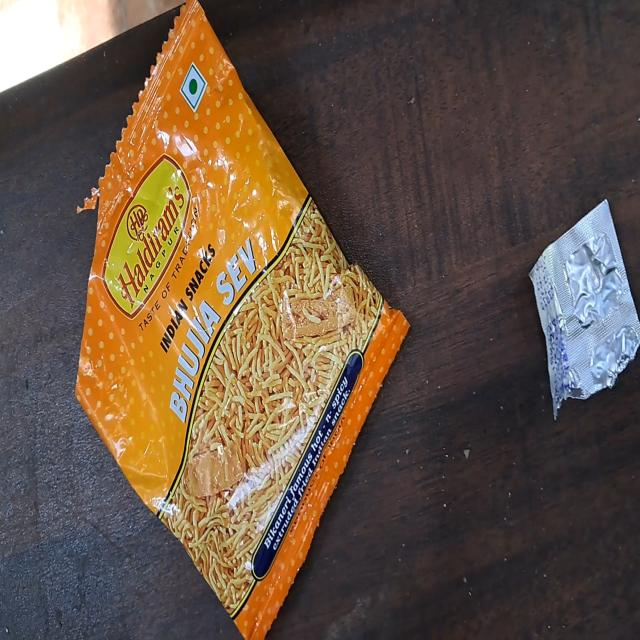Anorganik: (76, 0, 412, 640), (528, 197, 640, 419)
